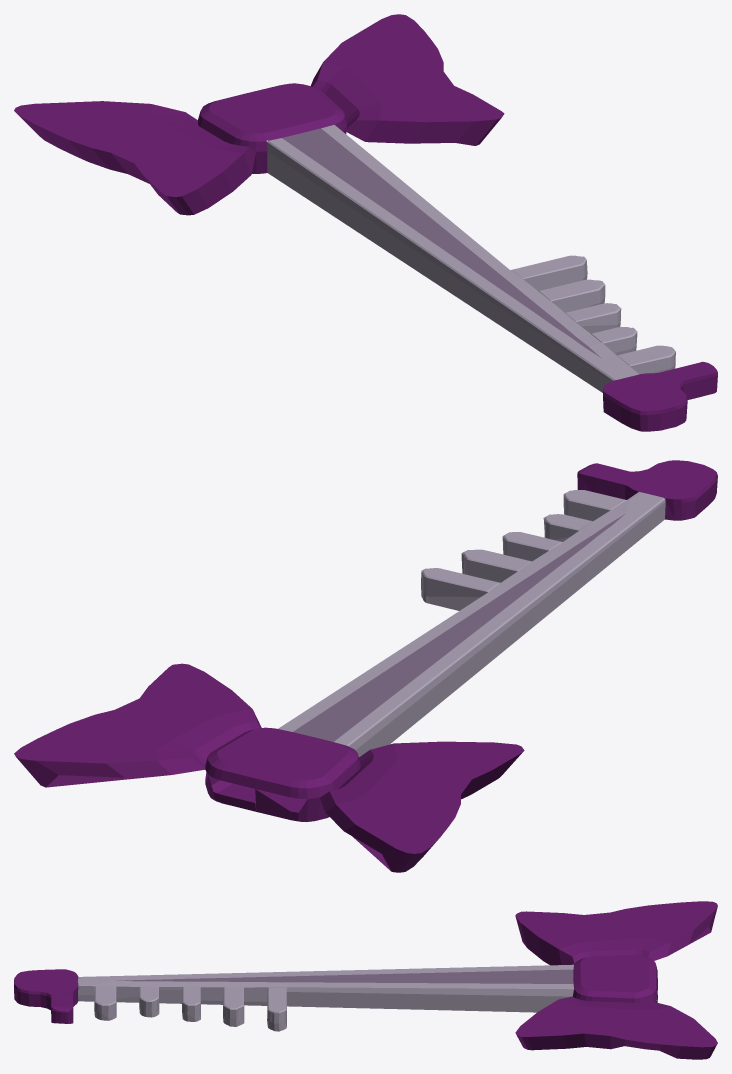
The model's file is BowKey1.fbx.
3 views of the same model, one above another, from view 1: azimuth 30°, elevation 25°; view 2: azimuth 150°, elevation 25°; view 3: azimuth 270°, elevation 25° (orthographic). The views are drawn at different scales.
Parts seen in each view (by area): view 1: Plane.005; view 2: Plane.005; view 3: Plane.005.
Part boxes in pixels (<box>): Plane.005: <box>14,14,717,431</box>; Plane.005: <box>14,460,717,872</box>; Plane.005: <box>14,901,717,1059</box>.
Size of the model in its own units: 134 by 13.21 by 274.
